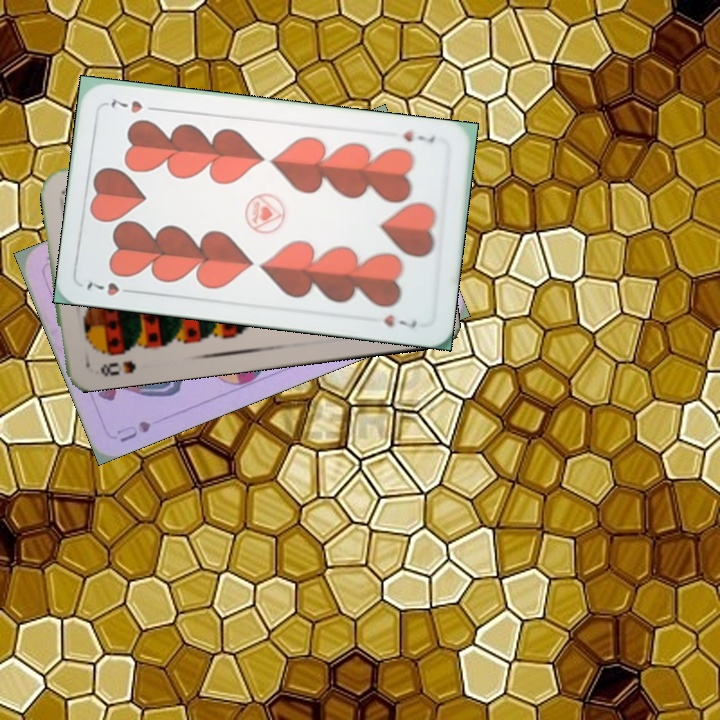H7: (83, 277, 139, 299), (399, 126, 438, 145)
S8: (96, 356, 138, 379)
SU: (112, 416, 154, 445)
